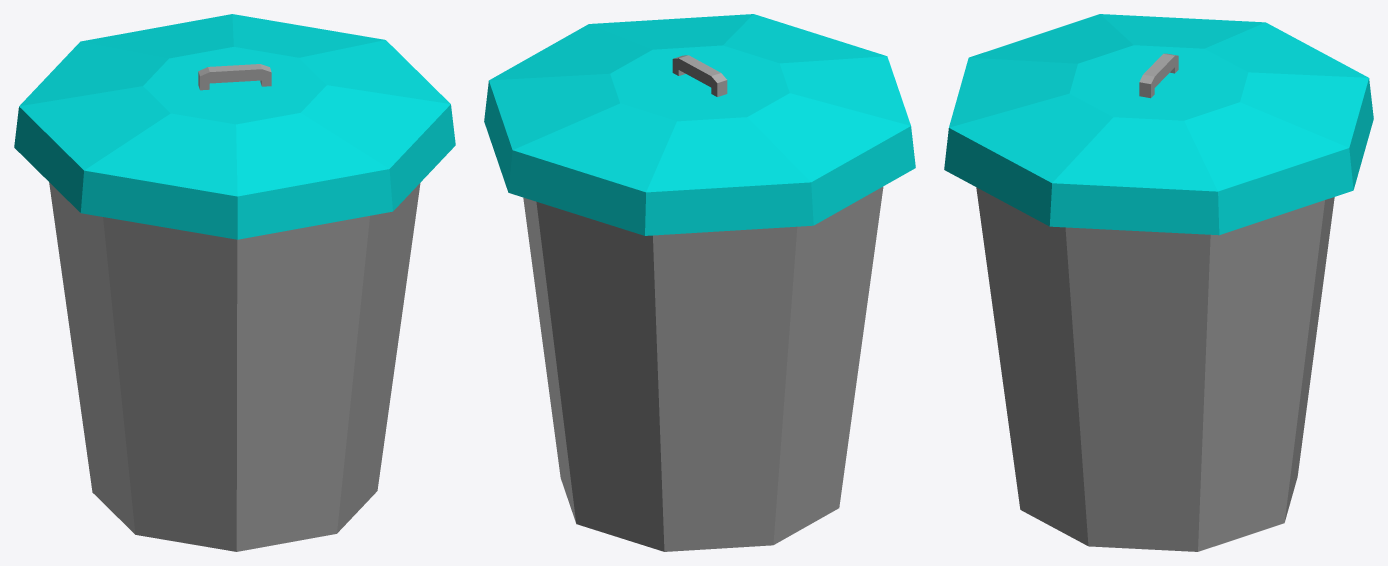
Rendered from trash_box.fbx.
3 views of the same model, side by side, from view 1: azimuth 30°, elevation 25°; view 2: azimuth 150°, elevation 25°; view 3: azimuth 270°, elevation 25° (orthographic).
Visible parts, largest first — view 1: polySurface269, polySurface268; view 2: polySurface269, polySurface268; view 3: polySurface269, polySurface268.
Boxes of the visible parts, x1,y1,x2,y2 form: polySurface269: [14, 14, 455, 551]; polySurface268: [198, 64, 271, 90]; polySurface269: [484, 14, 915, 551]; polySurface268: [672, 55, 727, 96]; polySurface269: [944, 14, 1373, 551]; polySurface268: [1139, 53, 1178, 98].
Size of the model in its own units: 32.8 by 36.06 by 32.8.
